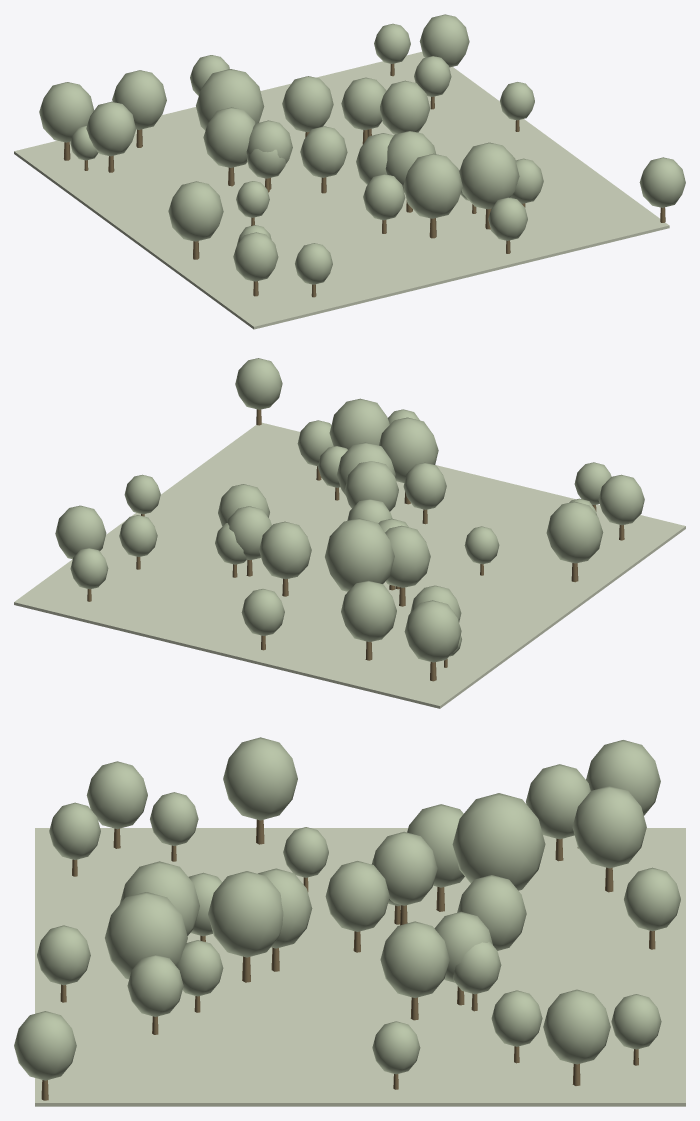
3 views of the same model, one above another, from view 1: azimuth 30°, elevation 25°; view 2: azimuth 150°, elevation 25°; view 3: azimuth 270°, elevation 25° (orthographic). The views are drawn at different scales.
Visible parts, largest first — view 1: terrain, lod-near-14, lod-near-6, lod-near-12, lod-near-17, lod-near-2, lod-near-13, lod-near-9, lod-near-19, lod-near-27, lod-near-15, lod-near-0 (+18 smaller); view 2: terrain, lod-near-12, lod-near-2, lod-near-17, lod-near-19, lod-near-6, lod-near-9, lod-near-14, lod-near-13, lod-near-0, lod-near-16, lod-near-20 (+16 smaller); view 3: terrain, lod-near-12, lod-near-1, lod-near-14, lod-near-17, lod-near-19, lod-near-27, lod-near-0, lod-near-28, lod-near-24, lod-near-2, lod-near-20 (+19 smaller).
Part boxes in pixels (box(x1,y1,x2,y2)): terrain: box(14, 52, 669, 329); lod-near-14: box(459, 142, 519, 209); lod-near-6: box(403, 153, 462, 218); lod-near-12: box(196, 69, 264, 130); lod-near-17: box(168, 181, 223, 241); lod-near-2: box(39, 82, 94, 142); lod-near-13: box(203, 107, 255, 167); lod-near-9: box(282, 76, 333, 132); lod-near-19: box(112, 70, 166, 129); lod-near-27: box(380, 80, 430, 134); lod-near-15: box(86, 101, 136, 156); lod-near-0: box(419, 14, 469, 67); terrain: box(14, 422, 685, 708); lod-near-12: box(325, 518, 394, 591); lod-near-2: box(404, 600, 461, 662); lod-near-17: box(546, 501, 603, 563); lod-near-19: box(341, 580, 396, 641); lod-near-6: box(379, 417, 438, 482); lod-near-9: box(259, 521, 311, 579); lod-near-14: box(329, 398, 389, 449); lod-near-13: box(385, 525, 430, 587); lod-near-0: box(55, 505, 106, 559); lod-near-16: box(344, 461, 398, 511); lod-near-20: box(235, 358, 282, 409); terrain: box(35, 828, 685, 1106); lod-near-12: box(452, 793, 545, 890); lod-near-1: box(208, 871, 283, 957); lod-near-14: box(105, 892, 187, 979); lod-near-17: box(223, 737, 297, 820); lod-near-19: box(572, 786, 646, 868); lod-near-27: box(380, 921, 449, 997); lod-near-0: box(543, 989, 610, 1064); lod-near-28: box(325, 861, 389, 931); lod-near-24: box(372, 831, 437, 905); lod-near-2: box(586, 740, 660, 815); lod-near-20: box(14, 1011, 76, 1080).
Bounding box in the file's own units: 33.33 × 7.21 × 33.03.
